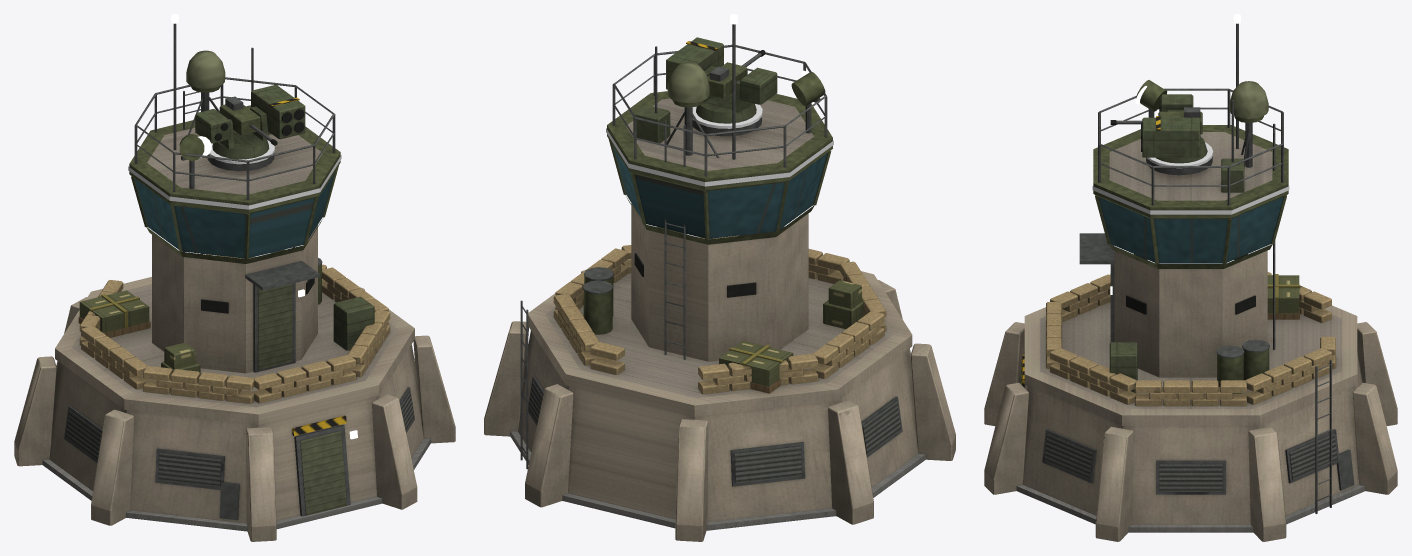
The model's file is defense_tower.glb.
3 renders of one model, left to right at view 1: azimuth 30°, elevation 25°; view 2: azimuth 150°, elevation 25°; view 3: azimuth 270°, elevation 25°, orthographic. The views are drawn at different scales.
Visible parts, largest first — view 1: Building, Turret; view 2: Building, Turret; view 3: Building, Turret.
Part boxes in pixels (bbox=[...]): Building: bbox=[14, 23, 455, 541]; Turret: bbox=[195, 84, 305, 171]; Building: bbox=[484, 24, 955, 541]; Turret: bbox=[666, 37, 777, 136]; Building: bbox=[984, 23, 1397, 541]; Turret: bbox=[1110, 94, 1213, 175].
Size of the model in its own units: 8.9 by 10.02 by 8.9.
6 materials, 1 textured.
